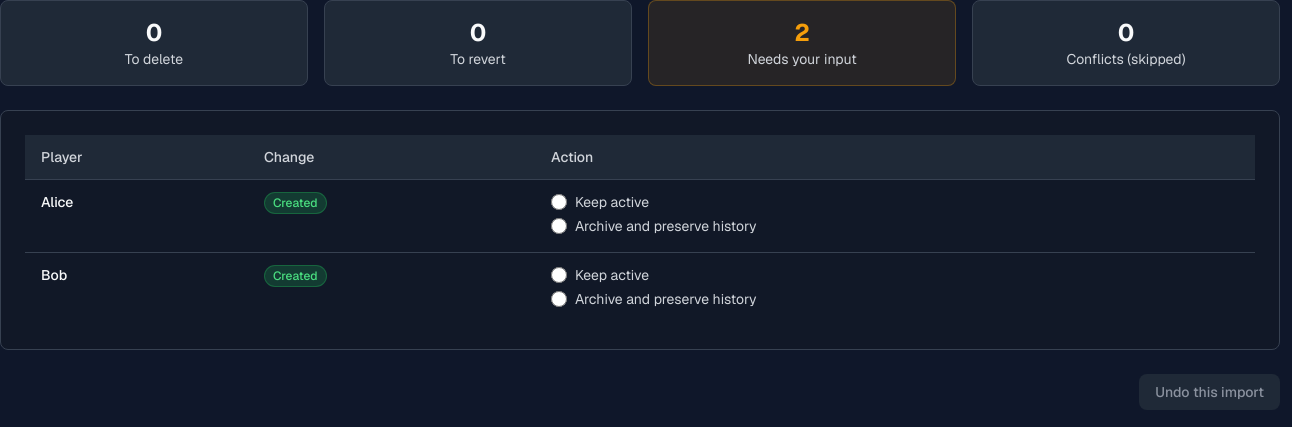
Test case: RollbackUndoForm › enables confirm only once every actionable conflict has an explicit choice
Expected: the button "Undo this import" is disabled, x1=1139 y1=374 x2=1280 y2=410
Click the radio button labelled "Keep active" in the row of "Alice" at (559,202), box x1=551 y1=194 x2=567 y2=210
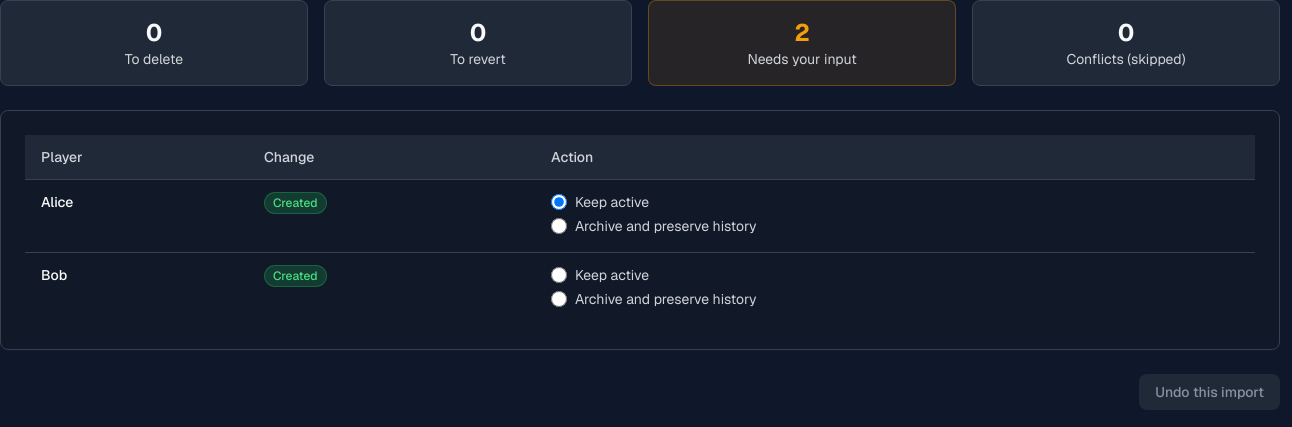
Expected: the button "Undo this import" is disabled, x1=1139 y1=374 x2=1280 y2=410
Click the 2nd radio button labelled "Archive and preserve history" at (559,299), box x1=551 y1=291 x2=567 y2=307
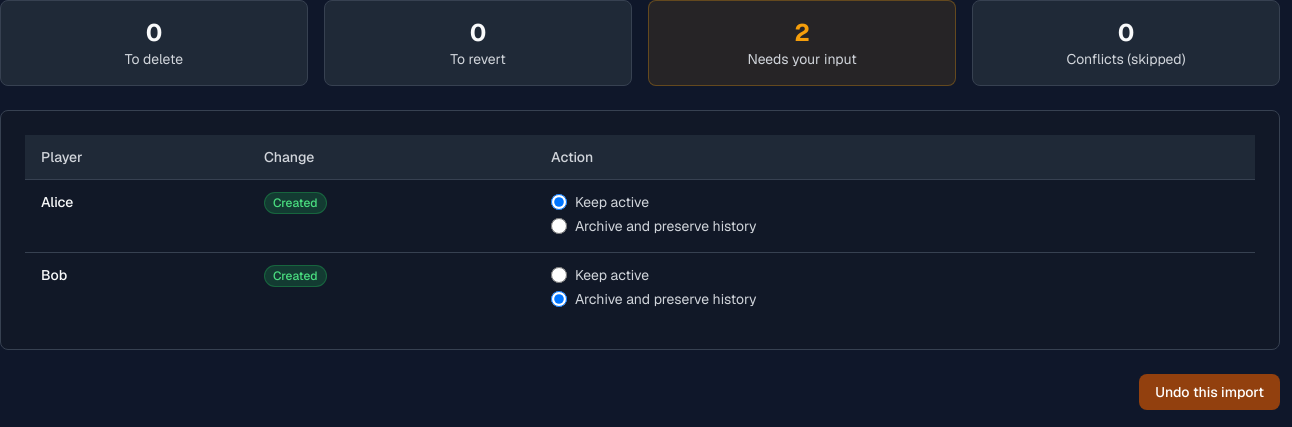
Expected: the button "Undo this import" is enabled, x1=1139 y1=374 x2=1280 y2=410
